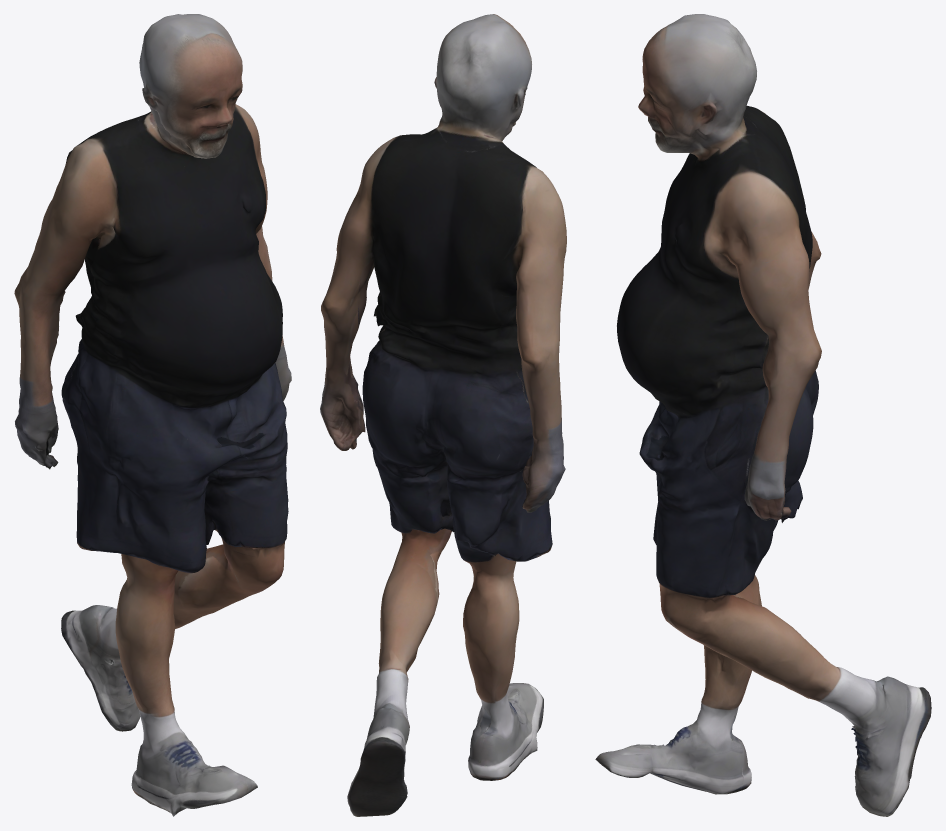
Rendered from Man_Walking_0331010234_texture.glb.
3 renders of one model, left to right at view 1: azimuth 30°, elevation 25°; view 2: azimuth 150°, elevation 25°; view 3: azimuth 270°, elevation 25°, orthographic. The views are drawn at different scales.
Bounding box in the file's own units: 0.6996 × 2 × 0.7854.
1 material, 1 textured.
